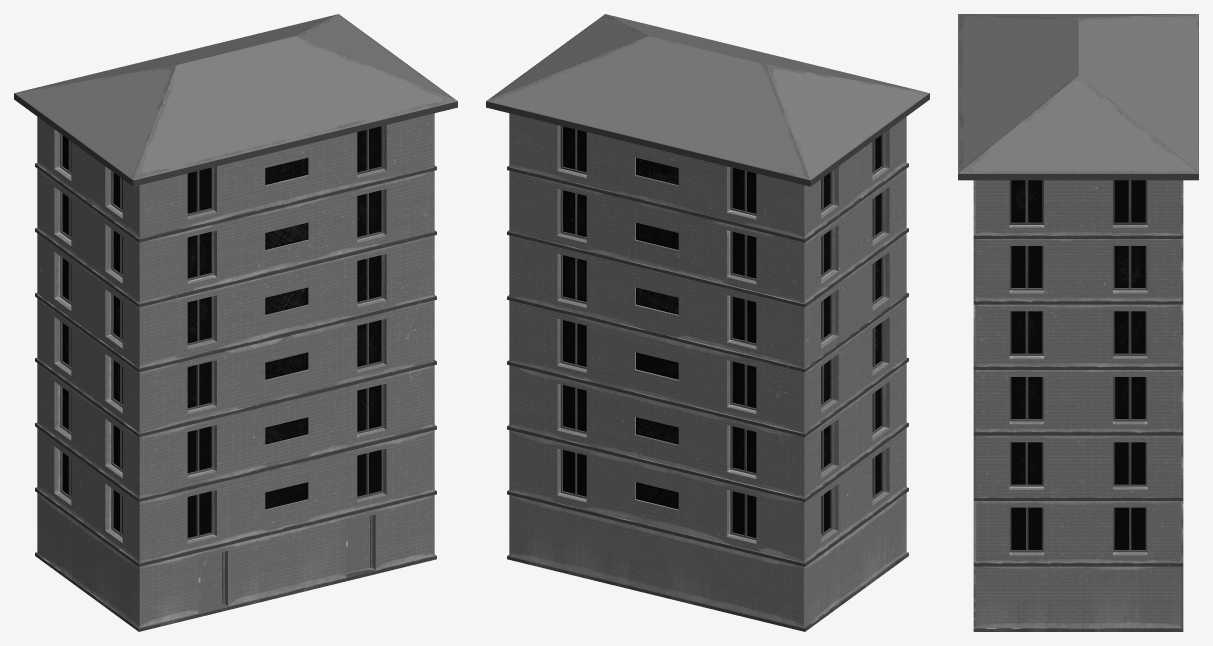
The model's file is build1.fbx.
The picture shows the model from 3 angles, left to right: view 1: azimuth 30°, elevation 25°; view 2: azimuth 150°, elevation 25°; view 3: azimuth 270°, elevation 25°; orthographic projection.
Parts seen in each view (by area): view 1: building_4; view 2: building_4; view 3: building_4.
Boxes of the visible parts, box(x1,y1,x2,y2) form: building_4: box(14, 14, 457, 631); building_4: box(486, 14, 929, 631); building_4: box(958, 14, 1198, 631).
Bounding box in the file's own units: 1100 × 1641 × 700.
Materials: 1 (1 with a texture image).
